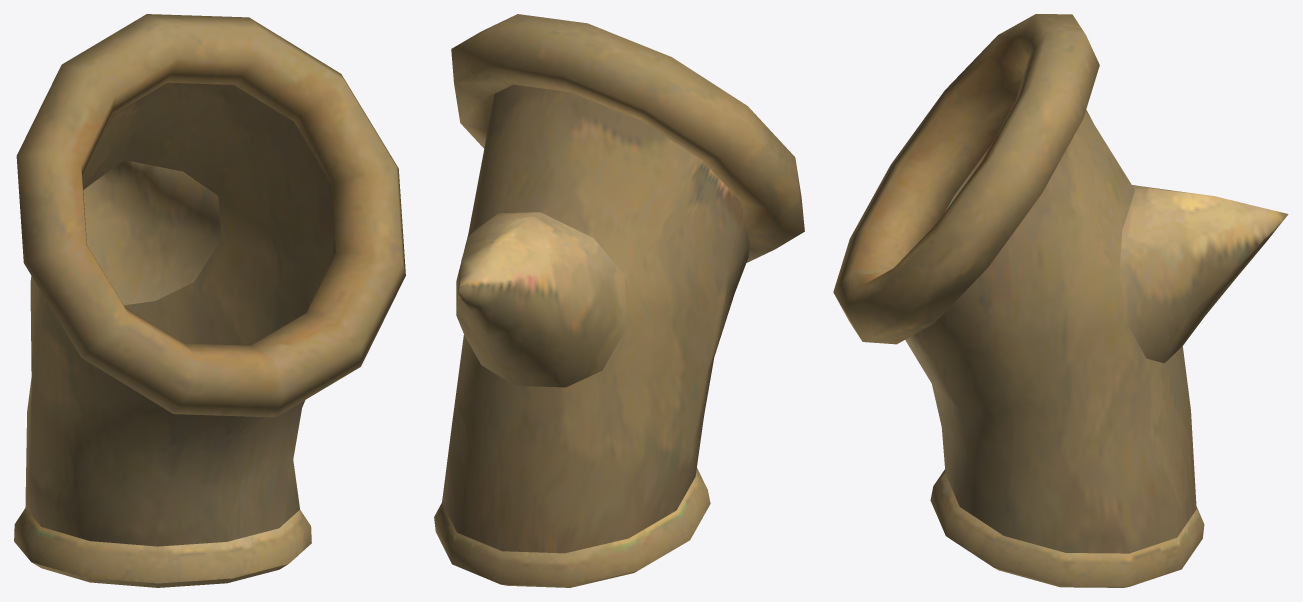
File: Homeworld_Exterior_Common_Thing_Prop_AyuanBlow_01_02_Vo.fbx
The picture shows the model from 3 angles, left to right: view 1: azimuth 30°, elevation 25°; view 2: azimuth 150°, elevation 25°; view 3: azimuth 270°, elevation 25°; orthographic projection. The views are drawn at different scales.
Visible parts, largest first — view 1: Homeworld_Exterior_Common_Thing_Prop_AyuanBlow_01_02_Vo; view 2: Homeworld_Exterior_Common_Thing_Prop_AyuanBlow_01_02_Vo; view 3: Homeworld_Exterior_Common_Thing_Prop_AyuanBlow_01_02_Vo.
Part boxes in pixels (x1,y1,x2,y2): Homeworld_Exterior_Common_Thing_Prop_AyuanBlow_01_02_Vo: (14,14,405,587); Homeworld_Exterior_Common_Thing_Prop_AyuanBlow_01_02_Vo: (434,14,804,587); Homeworld_Exterior_Common_Thing_Prop_AyuanBlow_01_02_Vo: (833,14,1288,587).
Size of the model in its own units: 0.32 by 0.4556 by 0.3695.
